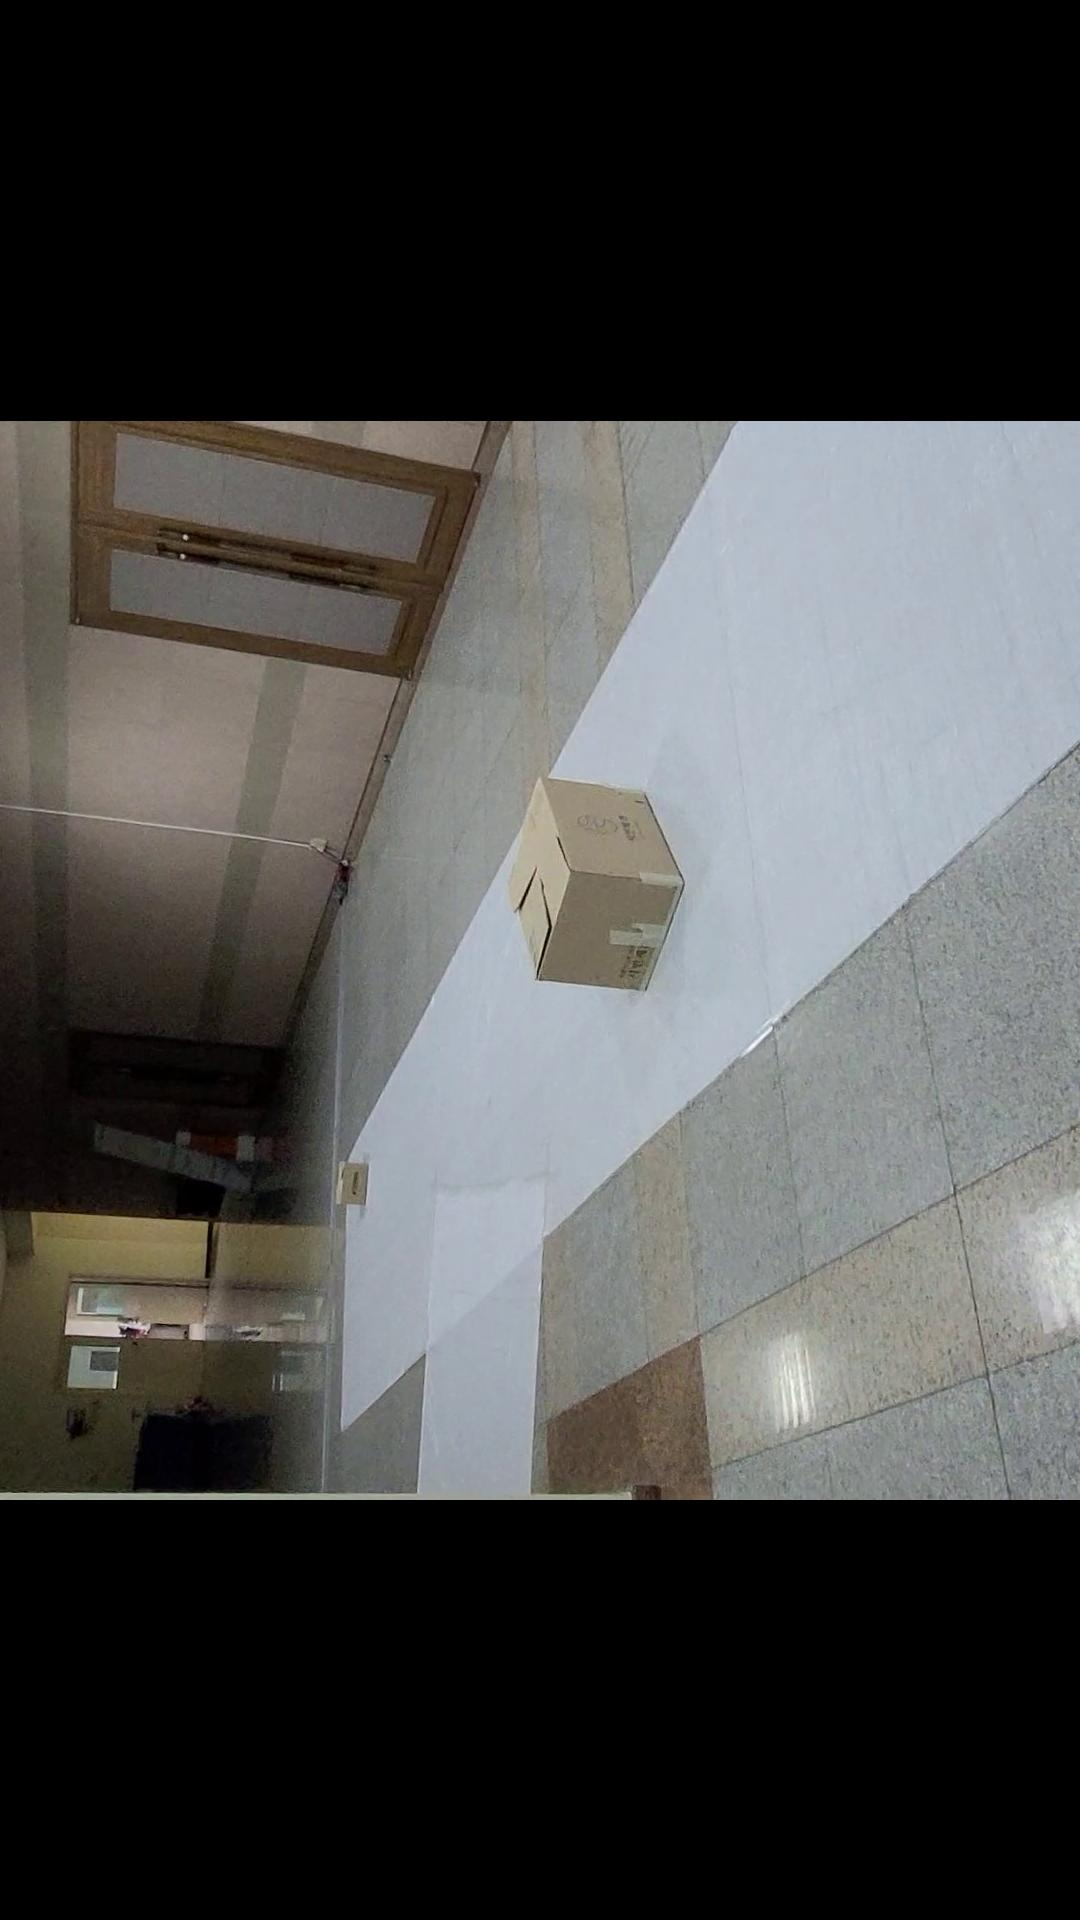Box: (495, 761, 690, 1002), (334, 1155, 373, 1209)
